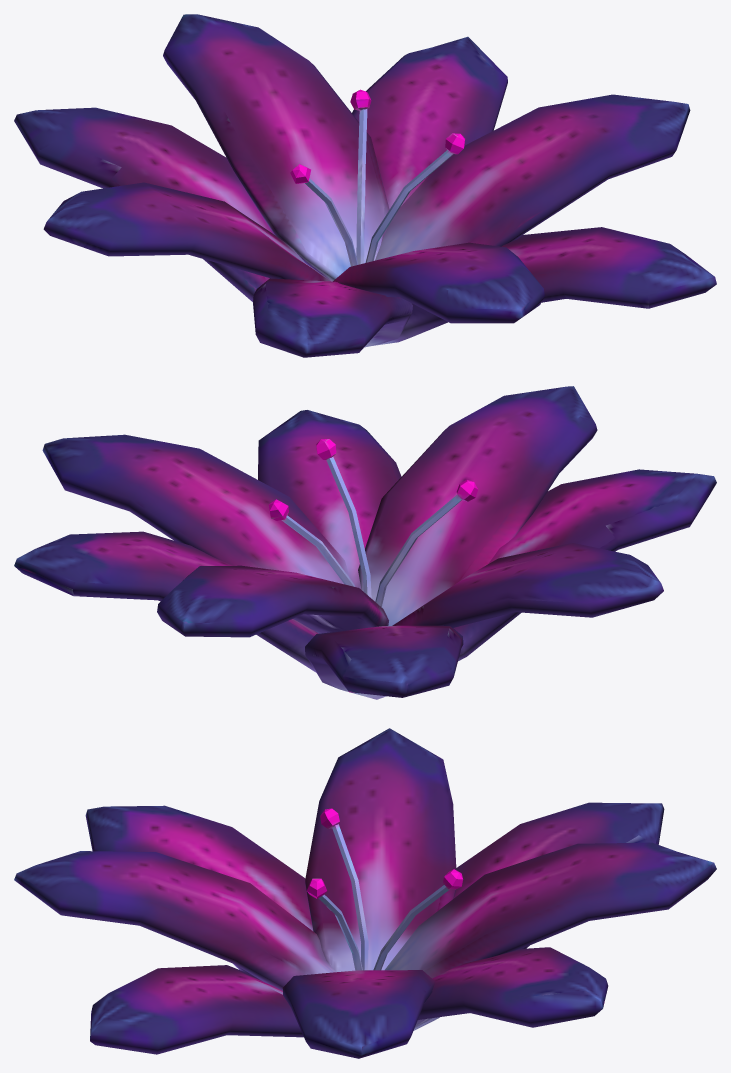
File: 3d-bunga2.glb
The picture shows the model from 3 angles, top to bottom: view 1: azimuth 30°, elevation 25°; view 2: azimuth 150°, elevation 25°; view 3: azimuth 270°, elevation 25°; orthographic projection. The views are drawn at different scales.
Visible parts, largest first — view 1: group2_pCube2; view 2: group2_pCube2; view 3: group2_pCube2.
Part boxes in pixels (left/top/right/bottom): group2_pCube2: left=14, top=14, right=716, bottom=357; group2_pCube2: left=14, top=386, right=716, bottom=699; group2_pCube2: left=14, top=728, right=716, bottom=1058.
Size of the model in its own units: 1.72 by 0.5597 by 1.72.
Materials: 1 (1 with a texture image).
